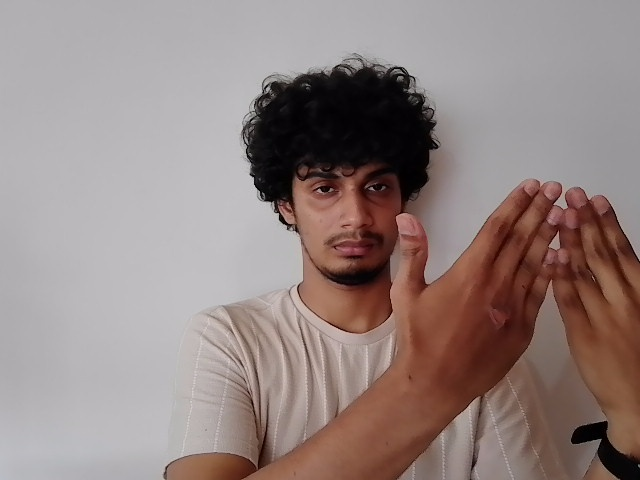thankyou: (392, 167, 640, 400)
